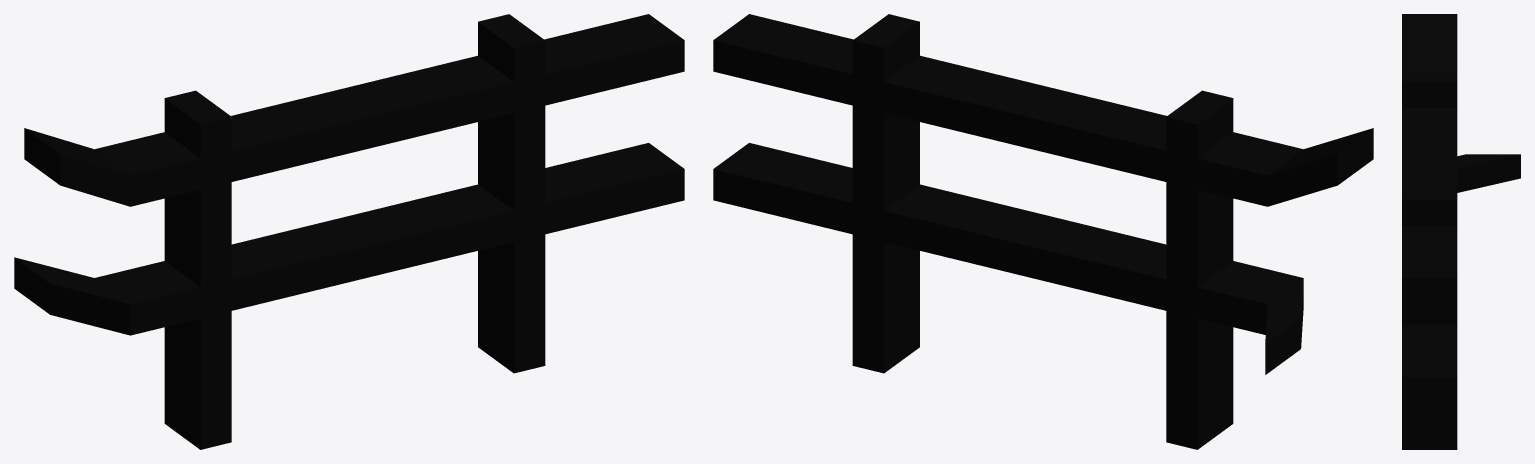
Rendered from NewBrokenFence2.fbx.
3 renders of one model, left to right at view 1: azimuth 30°, elevation 25°; view 2: azimuth 150°, elevation 25°; view 3: azimuth 270°, elevation 25°, orthographic. The views are drawn at different scales.
Visible parts, largest first — view 1: Cube.001; view 2: Cube.001; view 3: Cube.001.
Part boxes in pixels (<box>): Cube.001: <box>14,14,684,449</box>; Cube.001: <box>713,14,1373,449</box>; Cube.001: <box>1402,14,1520,449</box>.
Size of the model in its own units: 402 by 203 by 86.07.
